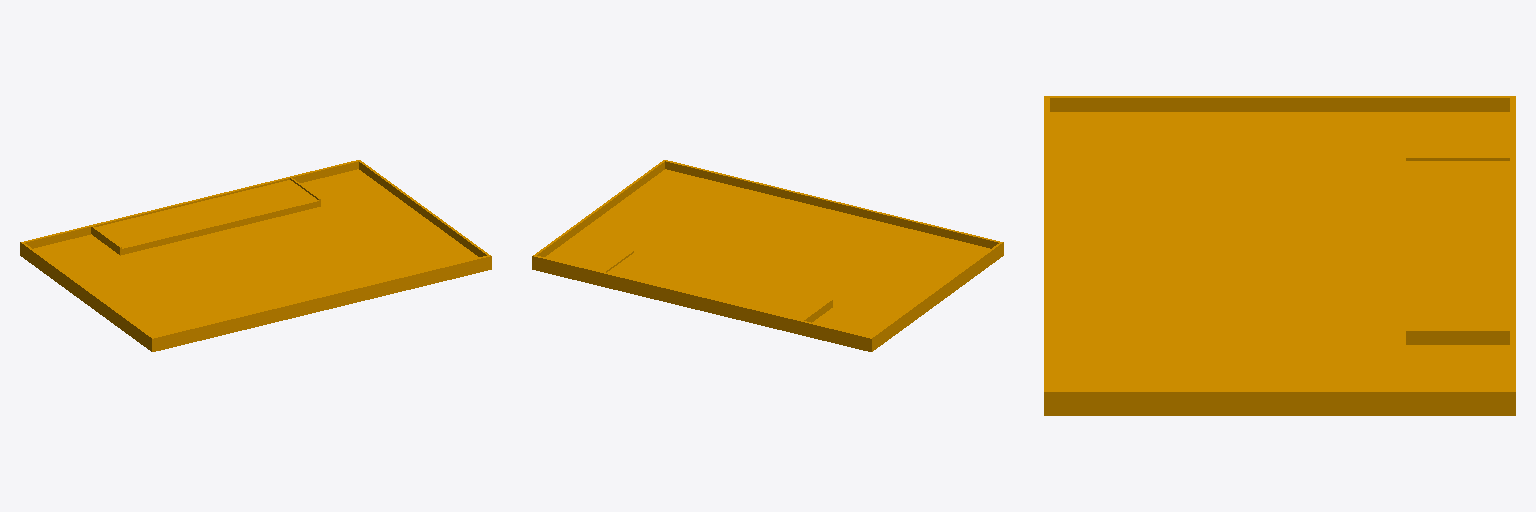
The robot description file, URDF, robot "obj_model":
<?xml version="1.0" ?>
<robot name="obj_model">

  <!-- Link that contains the object -->
  <link name="rendered_table">
    <!-- Visual Shape: 3D mesh from the .obj file -->
    <visual>
      <origin xyz="0 -0.025 0" rpy="0 0 0"/> <!-- adjust xyz/rpy as needed -->
      <geometry>
        <mesh filename="table.obj"/>  <!-- Path to the 3D model file -->
      </geometry>
      <material name="default_material">
        <texture filename="Vinyle_2026_FINAL.png"/> <!-- Path to the texture image file -->
      </material>
    </visual>
    
    <!-- Inertial properties: Mass and Inertia -->
    <inertial>
	  <mass value="1000.0"/>  <!-- Set a realistic mass for the table -->
      <inertia ixx="0.2" ixy="0.0" ixz="0.0" iyy="0.2" iyz="0.0" izz="0.2"/>
    </inertial>
  </link>
  
  <link name="table_base">
    <collision>
      <geometry>
        <box size="3.0 2.0 0.05"/>
      </geometry>
    </collision>
	<visual>
	  <geometry>
        <box size="0 0 0"/>
      </geometry>
	</visual>
  </link>
  
  <link name="border_front">
    <collision>
      <geometry>
        <box size="3.0 0.022 0.07"/>
      </geometry>
    </collision>
	<visual>
	  <geometry>
        <box size="0 0 0"/>
      </geometry>
	</visual>
  </link>
  
  <link name="border_back">
    <collision>
      <geometry>
        <box size="3.0 0.022 0.07"/>
      </geometry>
    </collision>
	<visual>
	  <geometry>
        <box size="0 0 0"/>
      </geometry>
	</visual>
  </link>
  
  <link name="border_left">
    <collision>
      <geometry>
        <box size="0.022 2.0 0.07"/>
      </geometry>
    </collision>
	<visual>
	  <geometry>
        <box size="0 0 0"/>
      </geometry>
	</visual>
  </link>
  
  <link name="border_right">
    <collision>
      <geometry>
        <box size="0.022 2.0 0.07"/>
      </geometry>
    </collision>
	<visual>
	  <geometry>
        <box size="0 0 0"/>
      </geometry>
	</visual>
  </link>
  
  <link name="grenier">
    <collision>
      <geometry>
        <box size="1.8 0.45 0.055"/>
      </geometry>
    </collision>
	<visual>
	  <geometry>
        <box size="0 0 0"/>
      </geometry>
	</visual>
  </link>
  
  <!-- Fixer les bordures à la table -->
  <joint name="rendered_to_base" type="fixed">
    <parent link="table_base"/>
    <child link="rendered_table"/>
    <origin rpy="1.5708 0 0" xyz="0 0 0"/> <!-- 1.5708 radians = 90° -->
  </joint>
  
  <joint name="base_to_border_front" type="fixed">
    <parent link="table_base"/>
    <child link="border_front"/>
    <origin rpy="0 0 0" xyz="0 1.011 0.06"/>
  </joint>

  <joint name="base_to_border_back" type="fixed">
    <parent link="table_base"/>
    <child link="border_back"/>
    <origin rpy="0 0 0" xyz="0 -1.011 0.06"/>
  </joint>

  <joint name="base_to_border_left" type="fixed">
    <parent link="table_base"/>
    <child link="border_left"/>
    <origin rpy="0 0 0" xyz="-1.511 0 0.06"/>
  </joint>

  <joint name="base_to_border_right" type="fixed">
    <parent link="table_base"/>
    <child link="border_right"/>
    <origin rpy="0 0 0" xyz="1.511 0 0.06"/>
  </joint>
  
  <joint name="base_to_grenier" type="fixed">
    <parent link="table_base"/>
    <child link="grenier"/>
    <origin rpy="0 0 0" xyz="0 0.775 0.05"/>
  </joint>

	<!-- Fix table (no gravity) -->
	<link name="world" />   
	<joint name="world_to_base_link" type="fixed">
	  <parent link="world" />
	  <child link="table_base" />
	</joint>

</robot>

--- What the picture shows (computed from the rendered views, not written in the file) ---
The picture shows the robot from 3 angles, left to right: view 1: azimuth 30°, elevation 25°; view 2: azimuth 150°, elevation 25°; view 3: azimuth 270°, elevation 25°; orthographic projection.
Robot: obj_model — 8 links, 7 joints (7 fixed); root link world; default pose: all joints at 0.
Links seen in each view (by area): view 1: rendered_table; view 2: rendered_table; view 3: rendered_table.
Link boxes in pixels (box(x1,y1,x2,y2)): rendered_table: box(20, 160, 491, 351); rendered_table: box(532, 160, 1003, 351); rendered_table: box(1044, 96, 1515, 415).
Size in the robot's own frame: 3.04 by 2.05 by 0.1175 metres.
Meshes: 1 distinct files referenced, 1 mesh visuals loaded (1 OBJ).
